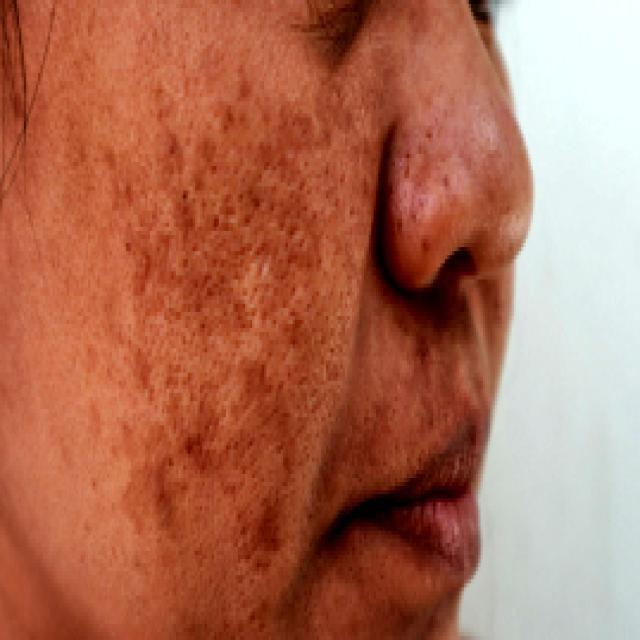Melasma: (69, 74, 326, 558), (314, 328, 494, 522)
